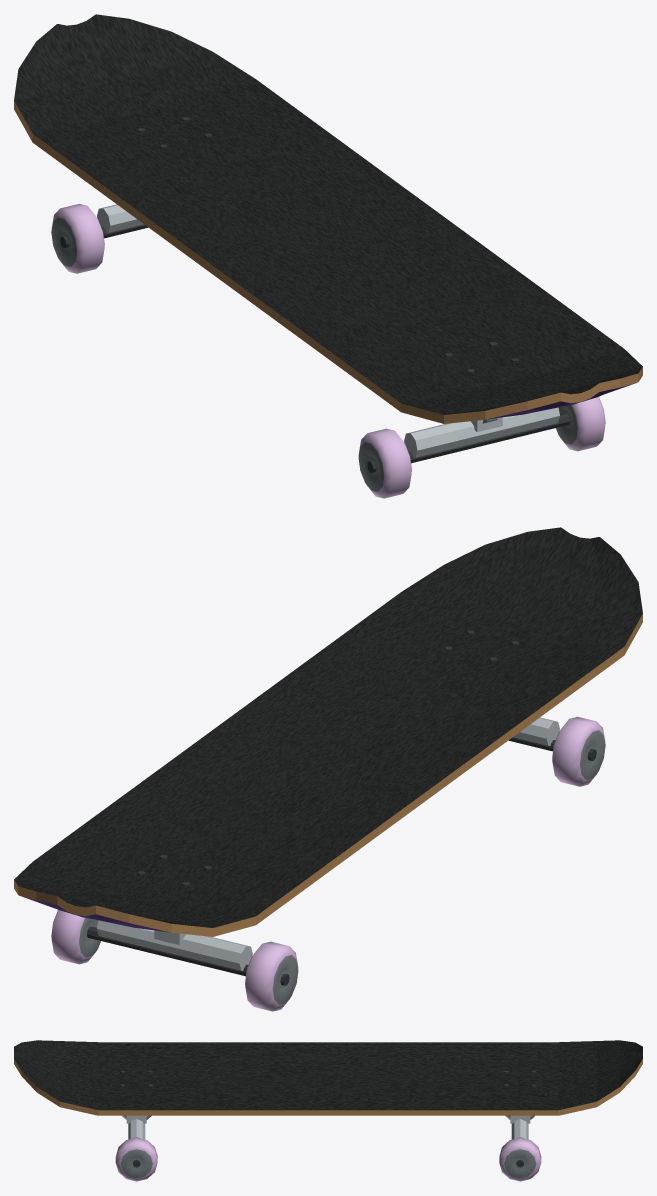
The model's file is 07_Violet_Comet.glb.
3 renders of one model, top to bottom at view 1: azimuth 30°, elevation 25°; view 2: azimuth 150°, elevation 25°; view 3: azimuth 270°, elevation 25°, orthographic. The views are drawn at different scales.
Parts seen in each view (by area): view 1: Deck_Violet_Comet, Truck_Rear_Violet_Comet, Wheel_FrontL_Violet_Comet, Wheel_RearL_Violet_Comet, Wheel_RearR_Violet_Comet, Truck_Front_Violet_Comet; view 2: Deck_Violet_Comet, Truck_Front_Violet_Comet, Wheel_RearL_Violet_Comet, Wheel_FrontL_Violet_Comet, Wheel_FrontR_Violet_Comet, Truck_Rear_Violet_Comet; view 3: Deck_Violet_Comet, Wheel_FrontR_Violet_Comet, Wheel_RearR_Violet_Comet, Truck_Front_Violet_Comet, Truck_Rear_Violet_Comet.
Part boxes in pixels (box(x1,y1,x2,y2)): Deck_Violet_Comet: box(14, 14, 642, 423); Truck_Rear_Violet_Comet: box(367, 407, 570, 472); Wheel_FrontL_Violet_Comet: box(51, 203, 104, 273); Wheel_RearL_Violet_Comet: box(358, 428, 411, 498); Wheel_RearR_Violet_Comet: box(556, 397, 605, 451); Truck_Front_Violet_Comet: box(60, 204, 148, 247); Deck_Violet_Comet: box(14, 527, 642, 936); Truck_Front_Violet_Comet: box(86, 920, 289, 985); Wheel_RearL_Violet_Comet: box(552, 716, 605, 786); Wheel_FrontL_Violet_Comet: box(245, 941, 298, 1011); Wheel_FrontR_Violet_Comet: box(51, 910, 100, 964); Truck_Rear_Violet_Comet: box(508, 717, 596, 760); Deck_Violet_Comet: box(14, 1040, 642, 1115); Wheel_FrontR_Violet_Comet: box(499, 1137, 541, 1181); Wheel_RearR_Violet_Comet: box(115, 1137, 157, 1181); Truck_Front_Violet_Comet: box(508, 1115, 530, 1167); Truck_Rear_Violet_Comet: box(125, 1115, 146, 1167).
Bounding box in the file's own units: 0.21 × 0.139 × 0.82.
8 materials, 2 textured.
